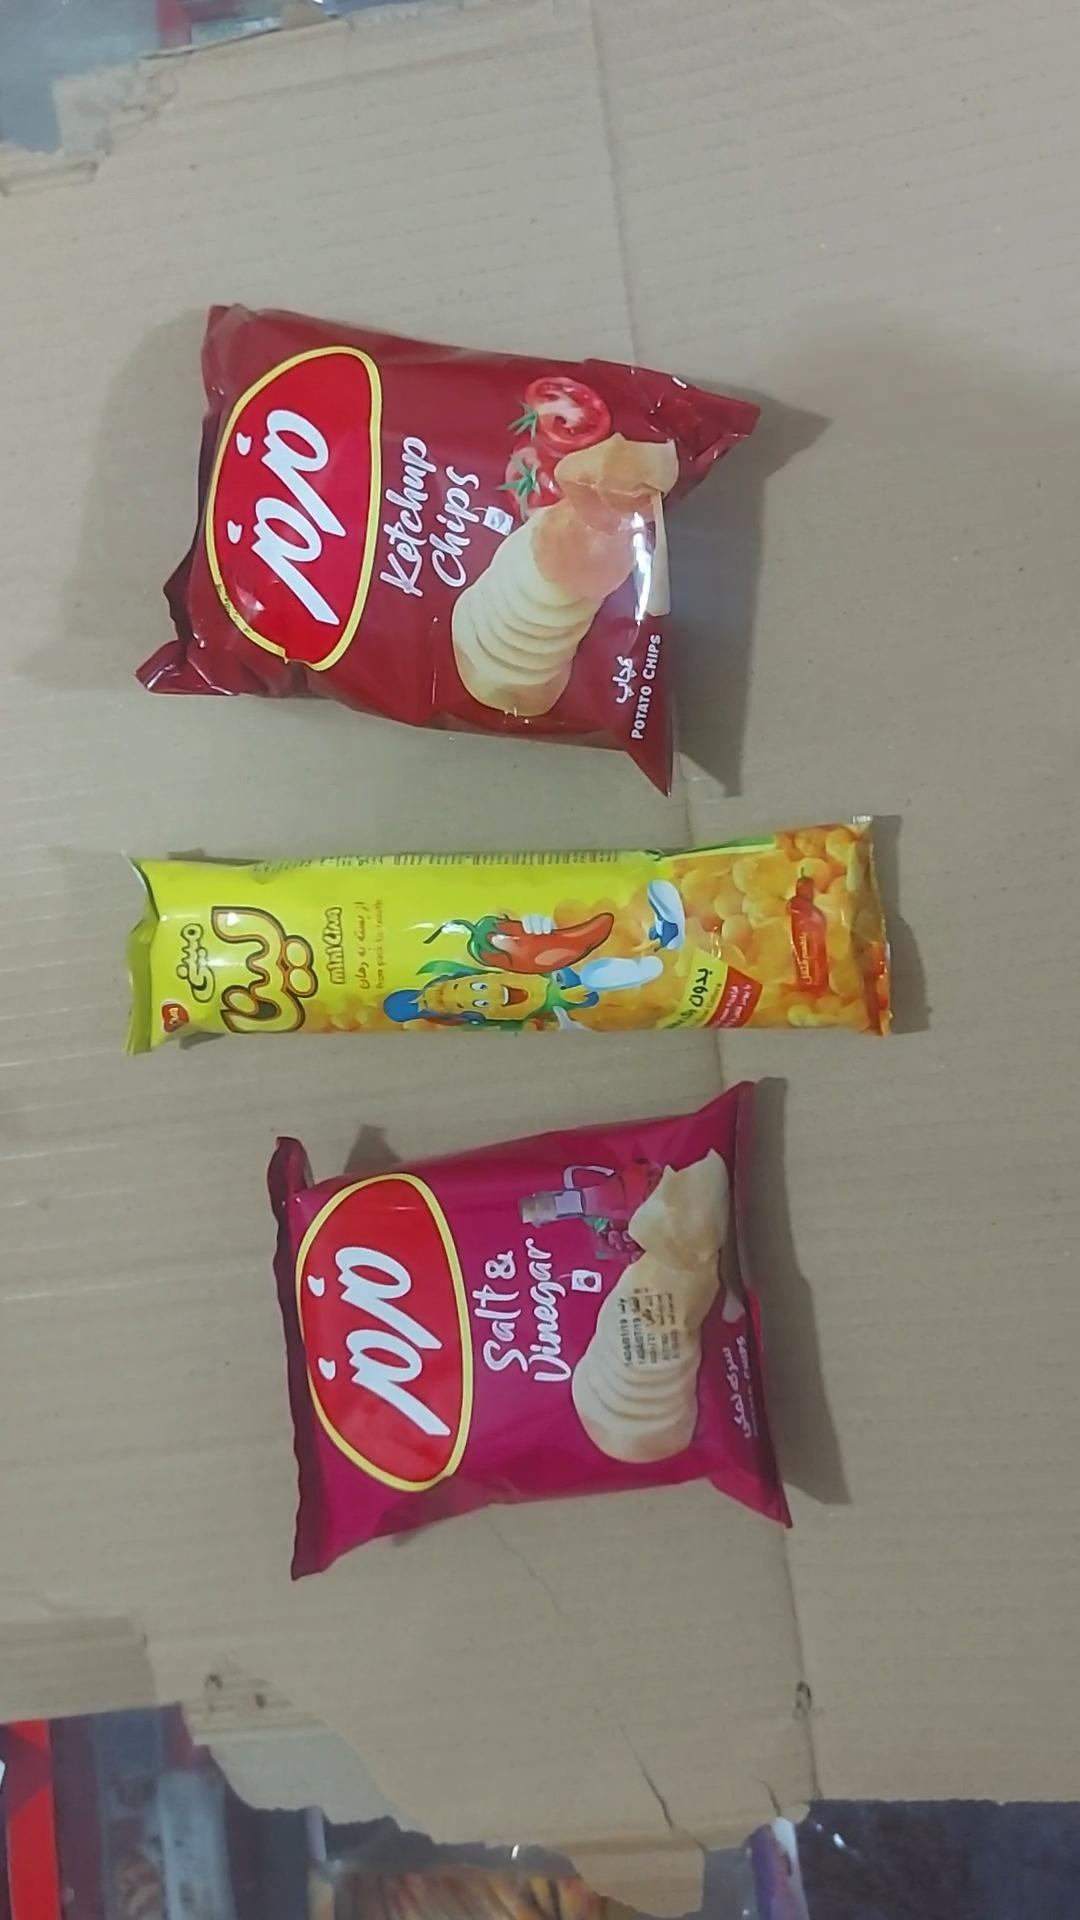Maz Maz ketchup chips: (138, 306, 757, 790)
Maz Maz vinegar chips: (268, 1084, 790, 1578)
Mini Lina: (127, 820, 891, 1054)
